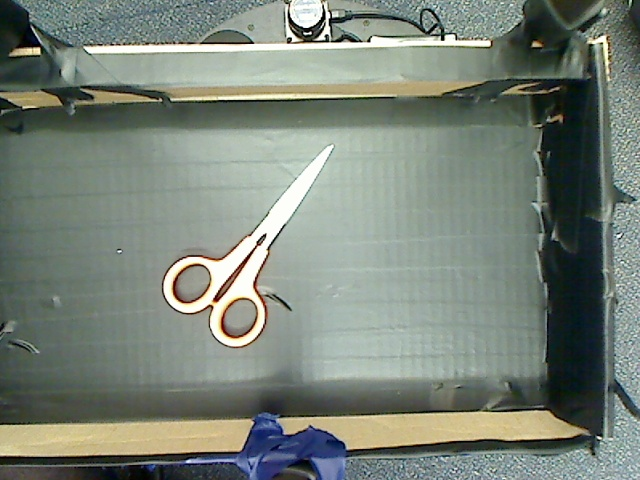scissors: (141, 118, 379, 354)
